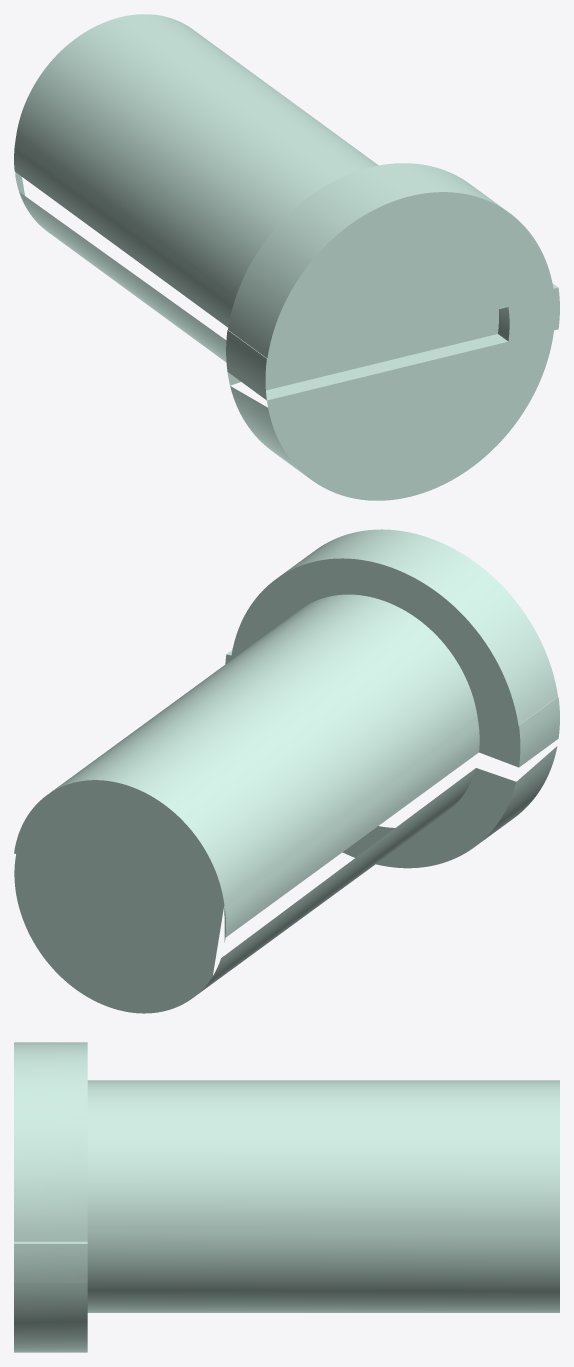
3 renders of one model, top to bottom at view 1: azimuth 30°, elevation 25°; view 2: azimuth 150°, elevation 25°; view 3: azimuth 270°, elevation 25°, orthographic. The views are drawn at different scales.
Parts seen in each view (by area): view 1: Renderer Node; view 2: Renderer Node; view 3: Renderer Node.
Boxes of the visible parts, bbox=[...] form: Renderer Node: bbox=[14, 14, 559, 500]; Renderer Node: bbox=[14, 529, 559, 1013]; Renderer Node: bbox=[14, 1042, 559, 1352].
Size of the model in its own units: 0.5046 by 0.4923 by 0.8672.
